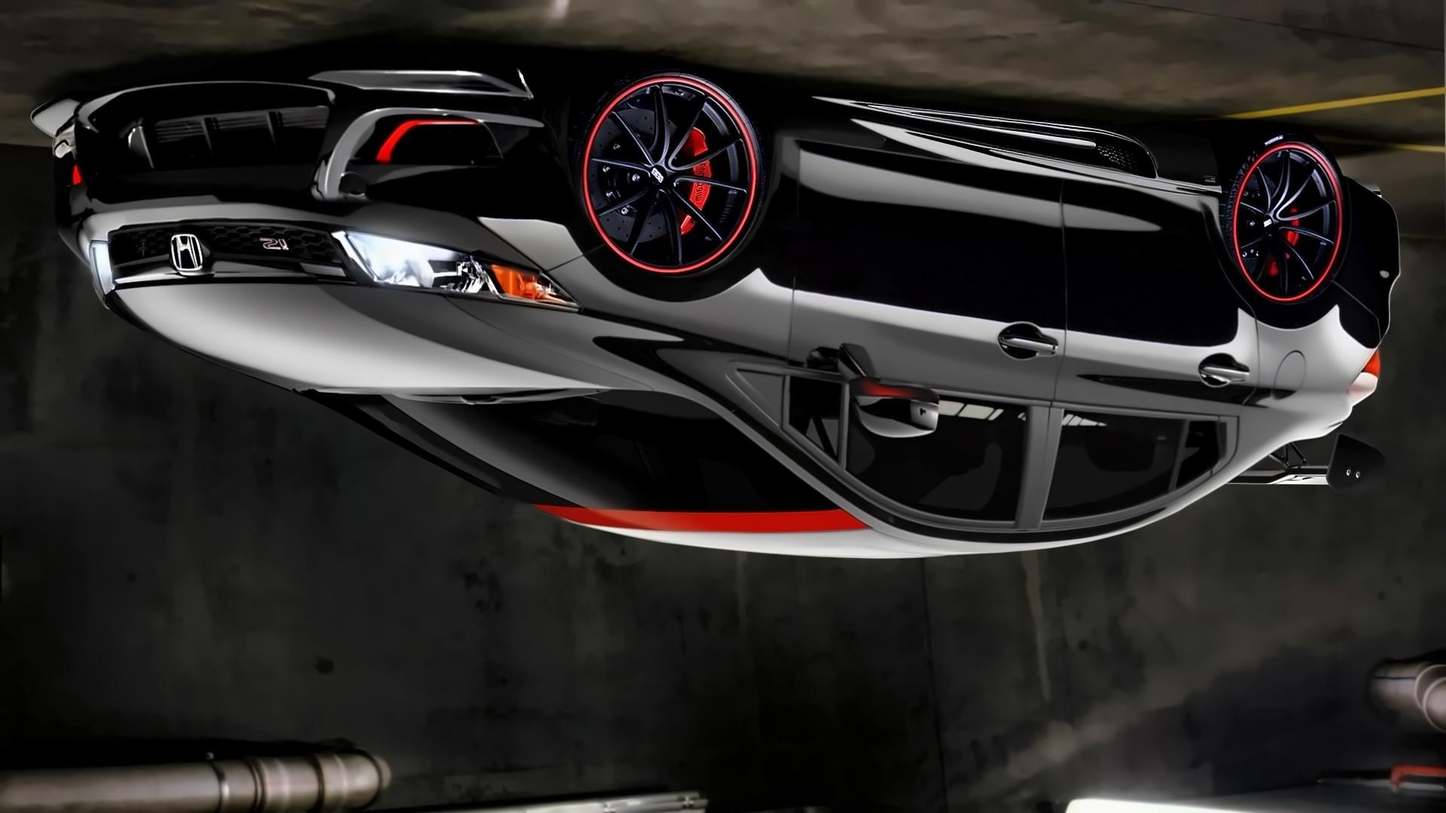Car hood: (94, 273, 640, 405)
Driver-s door - -F-R-: (787, 111, 1066, 542)
Fender - -F-R-: (450, 87, 804, 419)
Fender - -R-R-: (1220, 187, 1378, 427)
Front bumper: (28, 45, 614, 253)
Headlight - -L-: (72, 226, 138, 315)
Headlight - -R-: (324, 222, 587, 321)
Passenger-s door - -R-R-: (1035, 158, 1258, 539)
Rear bumper: (1329, 170, 1414, 333)
Rear light - -R-: (1331, 328, 1407, 422)
Side bumper - -R-: (755, 74, 1237, 209)
Side mirror - -R-: (803, 340, 945, 442)
